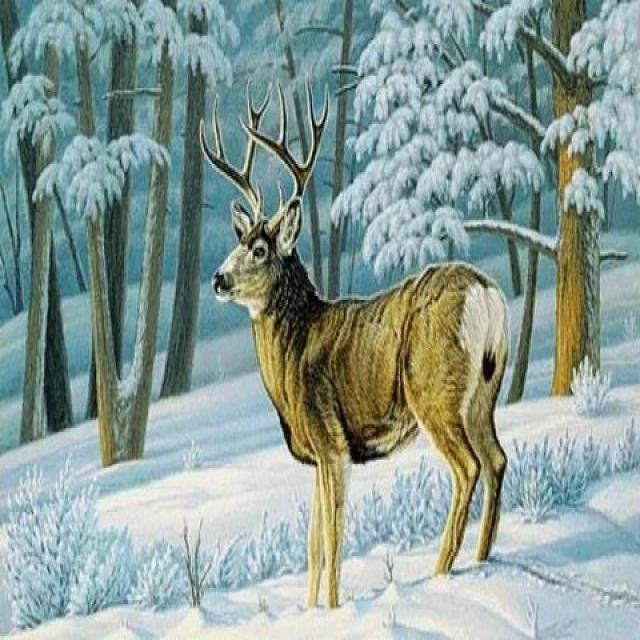deer: (182, 151, 544, 609)
